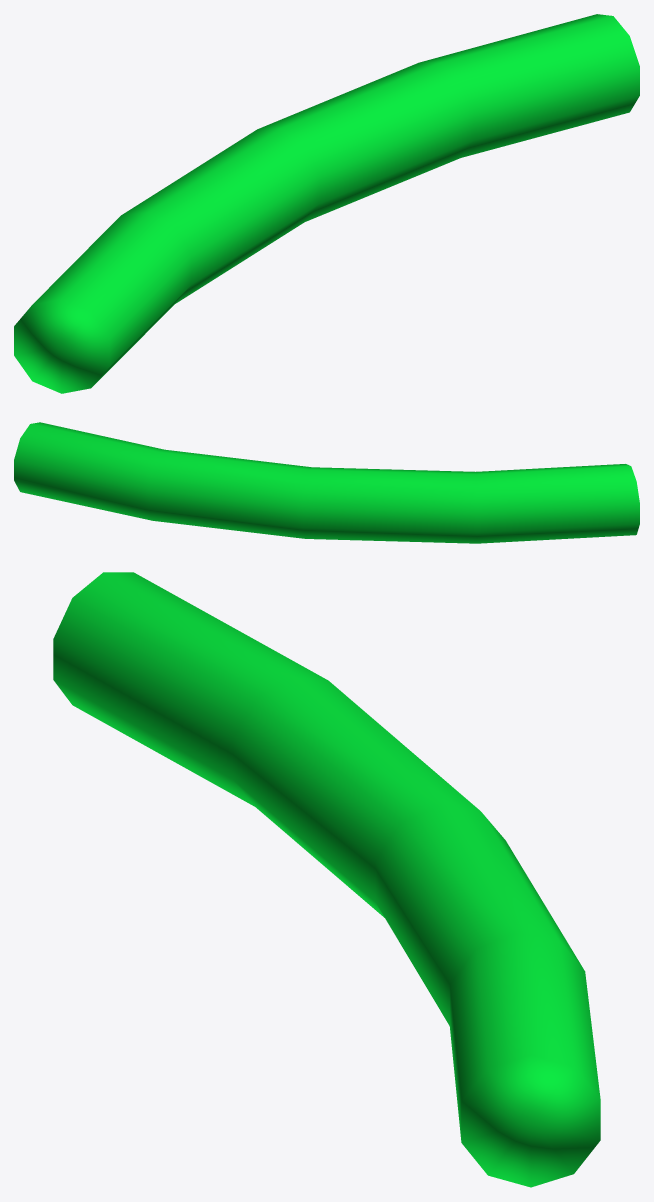
The model's file is Pipe_Turn_45_B_Int.fbx.
3 renders of one model, top to bottom at view 1: azimuth 30°, elevation 25°; view 2: azimuth 150°, elevation 25°; view 3: azimuth 270°, elevation 25°, orthographic. The views are drawn at different scales.
Parts seen in each view (by area): view 1: Pipe_Turn_45_B_Int; view 2: Pipe_Turn_45_B_Int; view 3: Pipe_Turn_45_B_Int.
Boxes of the visible parts, x1,y1,x2,y2 form: Pipe_Turn_45_B_Int: (14,14,639,393); Pipe_Turn_45_B_Int: (14,422,639,543); Pipe_Turn_45_B_Int: (53,572,600,1187).
Bounding box in the file's own units: 1.83 × 0.2243 × 0.8379.
